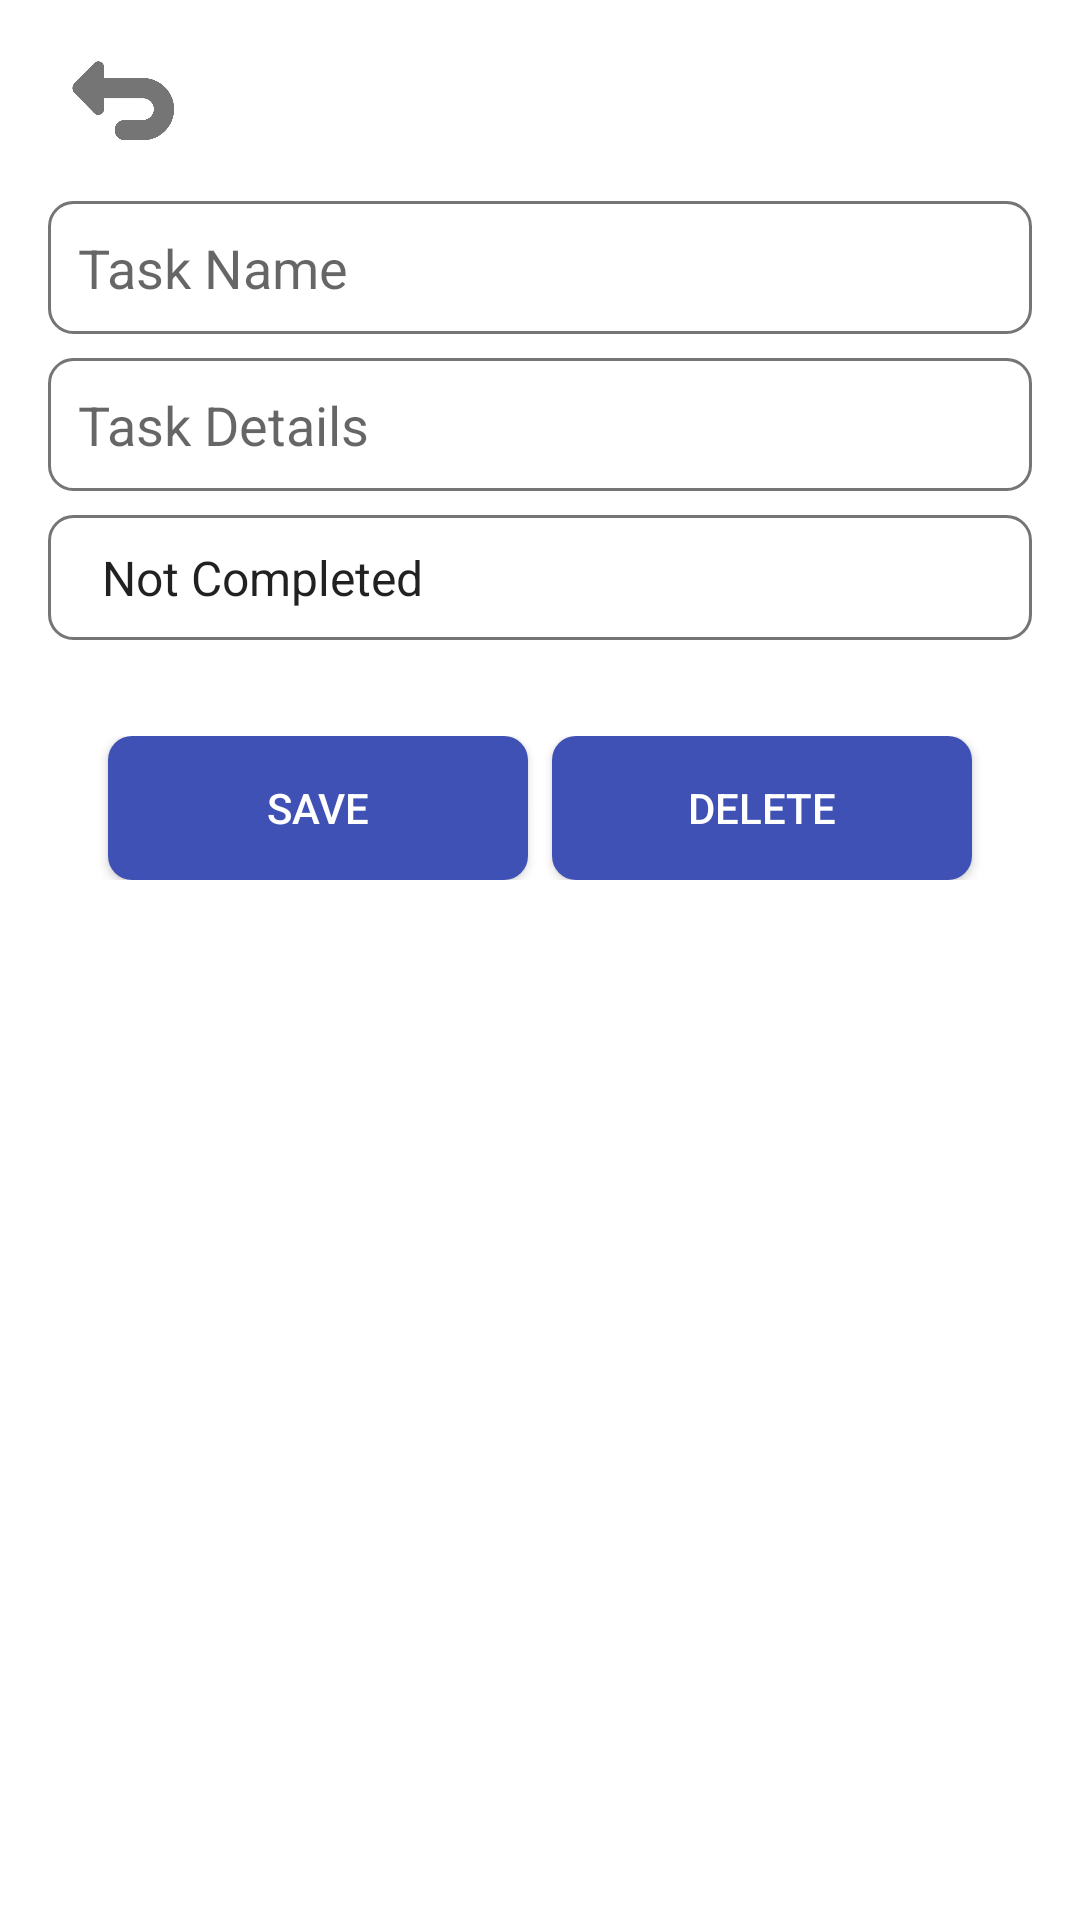

Icons on this 1080x1920 Android screen, each with the point to tap as (x,y):
back arrow: (123,100)
